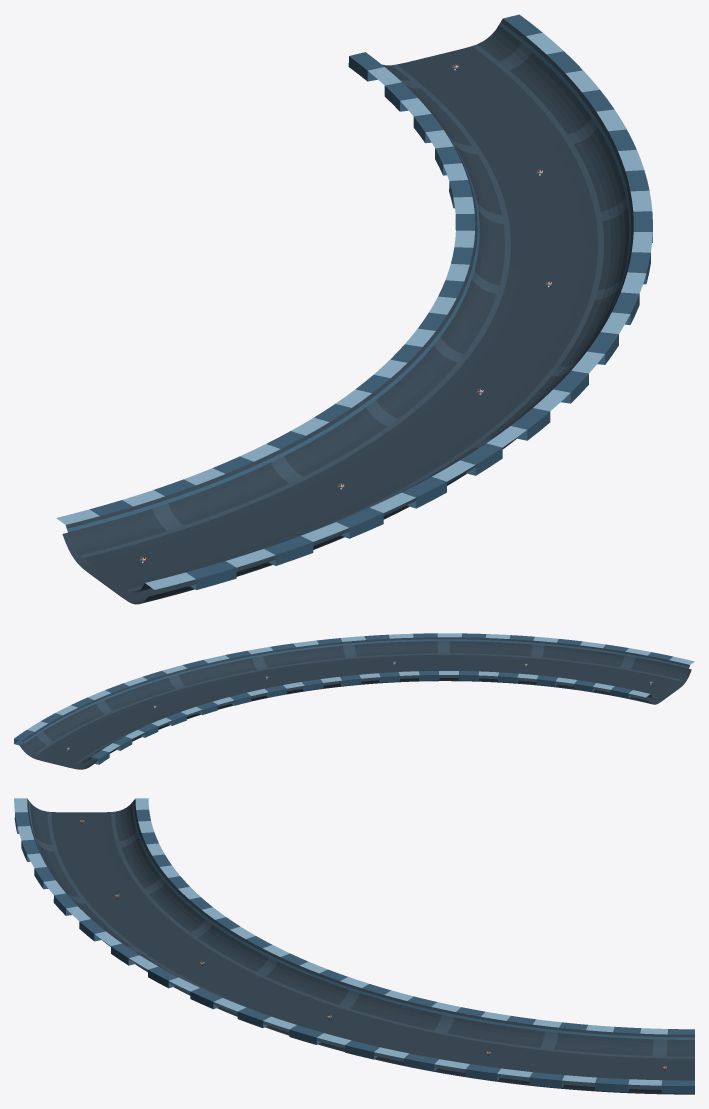
File: SmallPath90Degree_T3.fbx
3 views of the same model, one above another, from view 1: azimuth 30°, elevation 25°; view 2: azimuth 150°, elevation 25°; view 3: azimuth 270°, elevation 25° (orthographic). The views are drawn at different scales.
Visible parts, largest first — view 1: SmallPath90Degree_T3; view 2: SmallPath90Degree_T3; view 3: SmallPath90Degree_T3.
Part boxes in pixels (x1=…): SmallPath90Degree_T3: x1=56, y1=14, x2=652, y2=604; SmallPath90Degree_T3: x1=14, y1=633, x2=694, y2=769; SmallPath90Degree_T3: x1=14, y1=798, x2=694, y2=1094.
Bounding box in the file's own units: 5717 × 199 × 5717.
